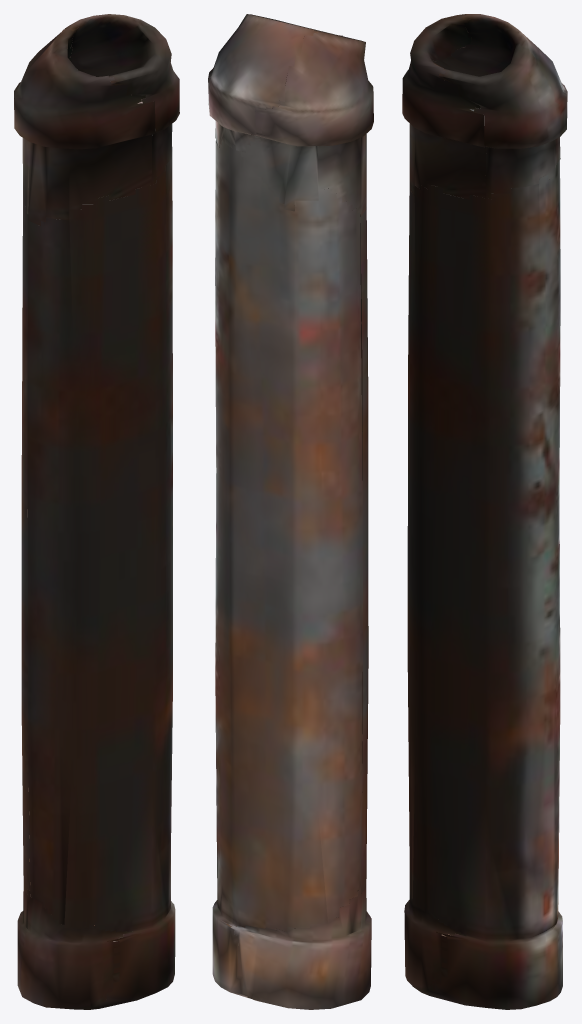
File: weapon_pipa_besi.glb
3 renders of one model, left to right at view 1: azimuth 30°, elevation 25°; view 2: azimuth 150°, elevation 25°; view 3: azimuth 330°, elevation 25°, orthographic.
Parts seen in each view (by area): view 1: weapon_pipa_besi; view 2: weapon_pipa_besi; view 3: weapon_pipa_besi.
Boxes of the visible parts, x1=… form: weapon_pipa_besi: x1=14, y1=14, x2=179, y2=1009; weapon_pipa_besi: x1=208, y1=14, x2=373, y2=1009; weapon_pipa_besi: x1=402, y1=14, x2=567, y2=1009.
Bounding box in the file's own units: 0.1633 × 0.9998 × 0.114.
1 material, 1 textured.
